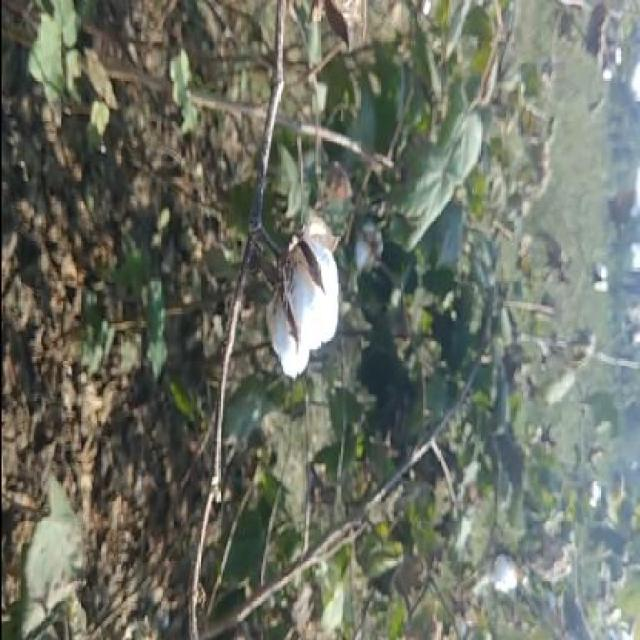cotton_ready: (230, 205, 341, 397)
